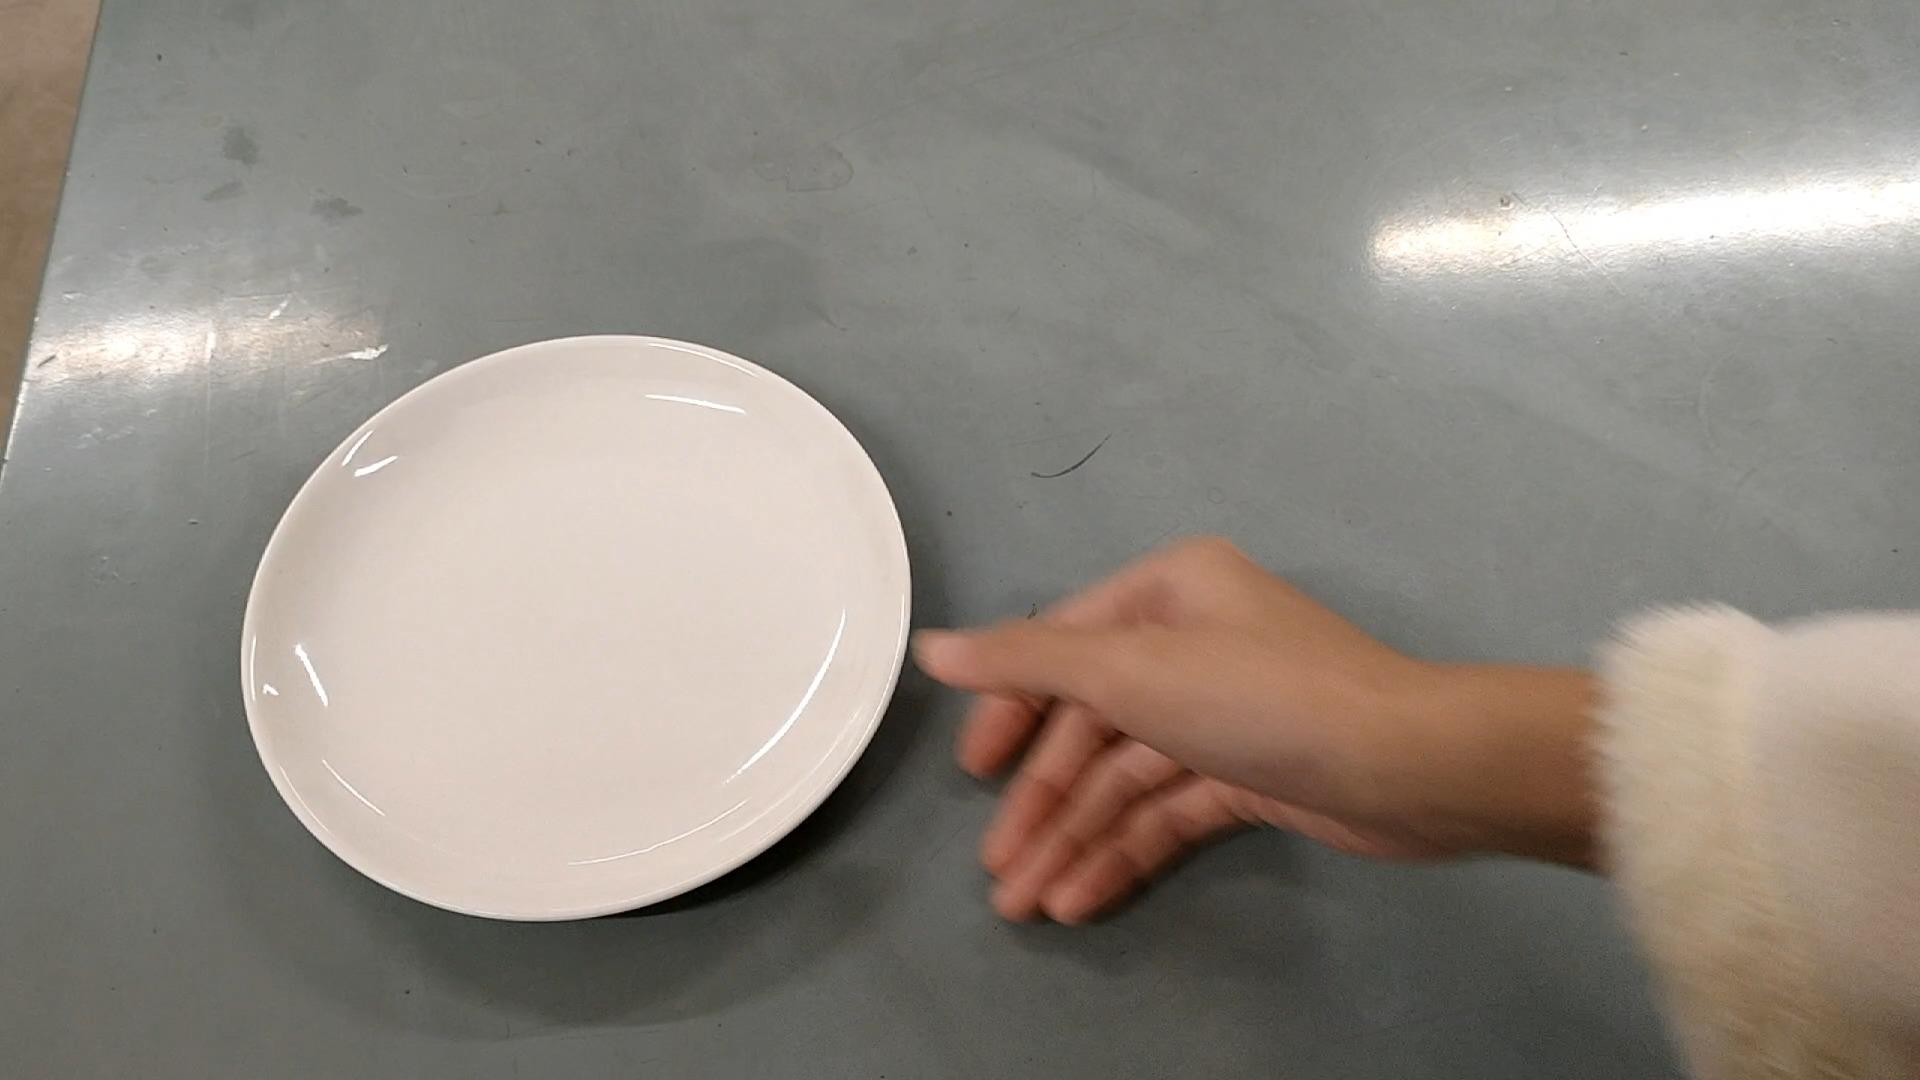plate: (243, 328, 907, 926)
